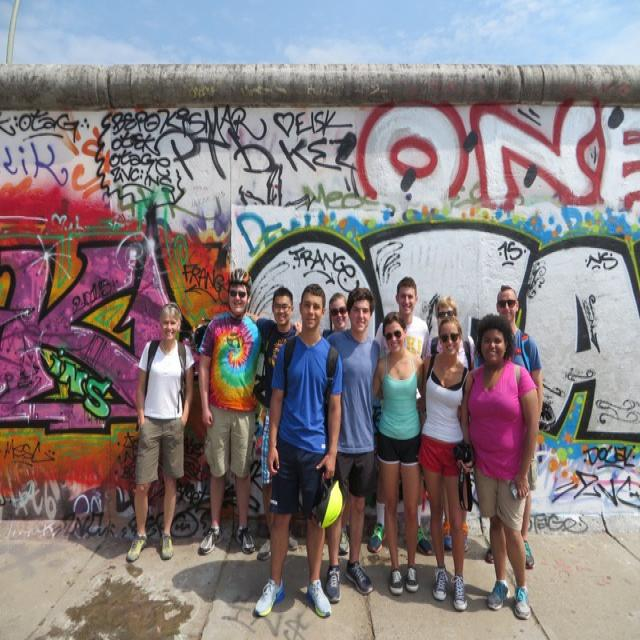body: (248, 280, 346, 623), (196, 265, 305, 559), (456, 311, 540, 621), (315, 284, 384, 605), (124, 299, 197, 564), (367, 276, 433, 557), (414, 313, 475, 615), (483, 282, 545, 570), (371, 310, 430, 598), (247, 287, 299, 561), (425, 293, 476, 555), (328, 289, 350, 332)
